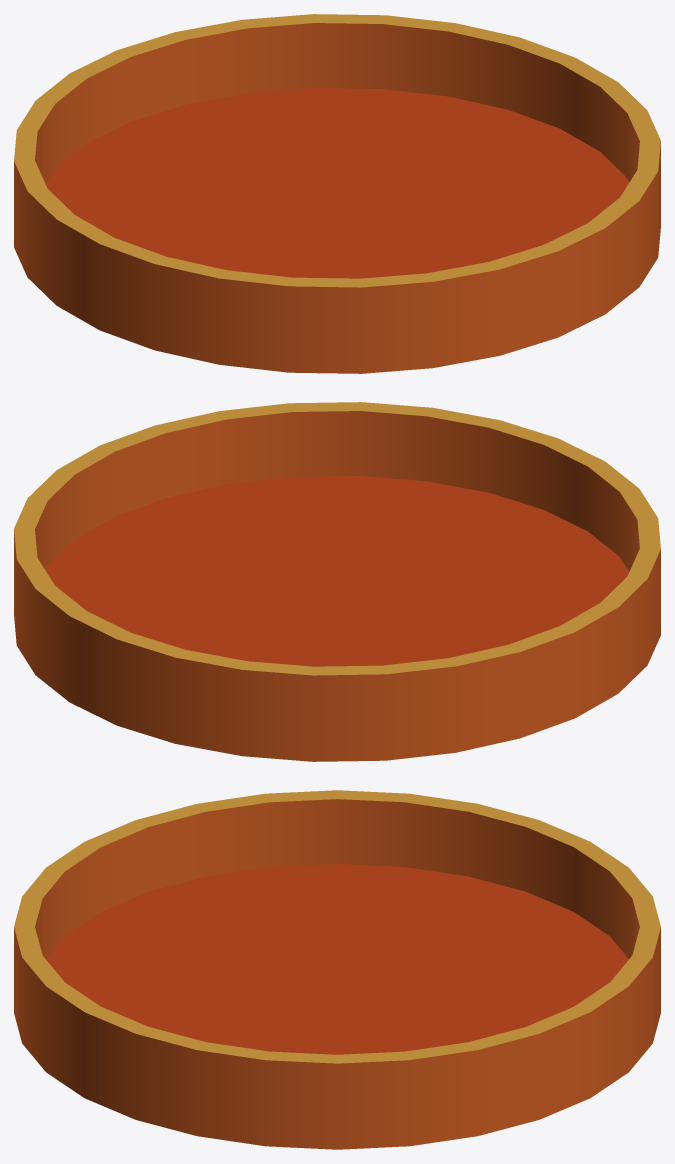
File: Hop.fbx
3 renders of one model, top to bottom at view 1: azimuth 30°, elevation 25°; view 2: azimuth 150°, elevation 25°; view 3: azimuth 270°, elevation 25°, orthographic.
Parts seen in each view (by area): view 1: HOP; view 2: HOP; view 3: HOP.
Part boxes in pixels (bbox=[...]): HOP: bbox=[14, 14, 660, 373]; HOP: bbox=[14, 402, 660, 761]; HOP: bbox=[14, 790, 660, 1149].
Size of the model in its own units: 161 by 23.62 by 161.
